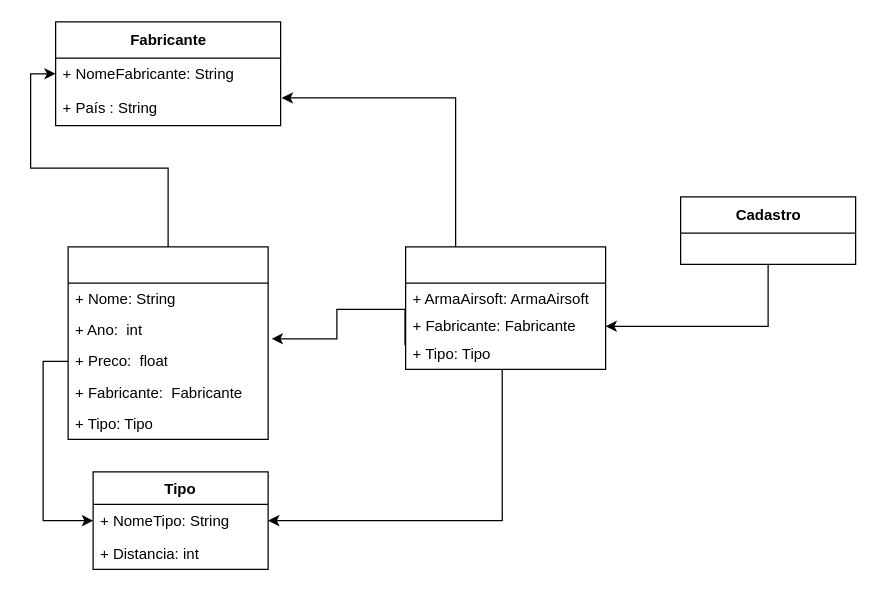
This 878x595 diagram has some shape labels left out. The box of each missing label's shape, as (x1, y1, x2, y2) in pixels:
ArmaAirsoft: (67, 246, 268, 439)
ArmaBuilder: (404, 246, 606, 369)
